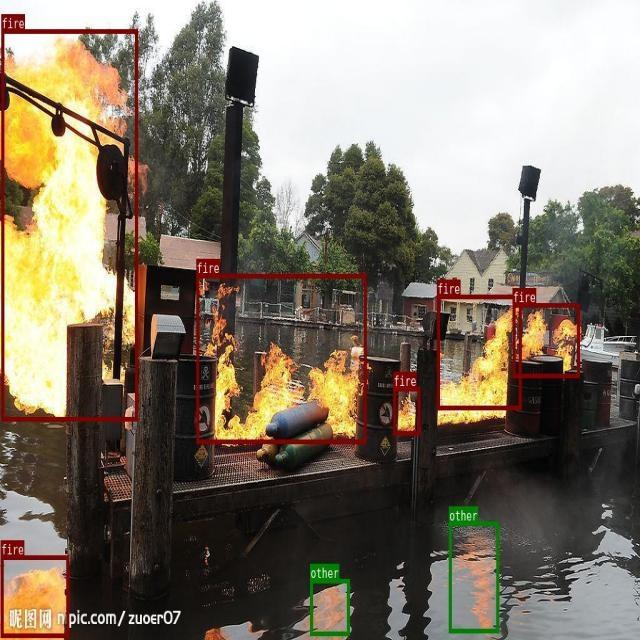fire: (1, 29, 137, 420), (196, 273, 366, 443), (437, 294, 521, 409), (1, 555, 69, 637), (512, 302, 579, 377), (393, 387, 420, 435)
